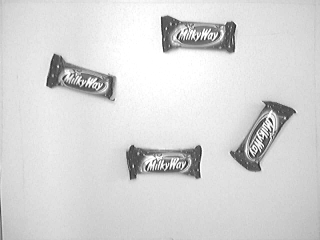Milkyway: (227, 97, 298, 175), (44, 51, 119, 106), (158, 12, 239, 55), (123, 142, 205, 184)
